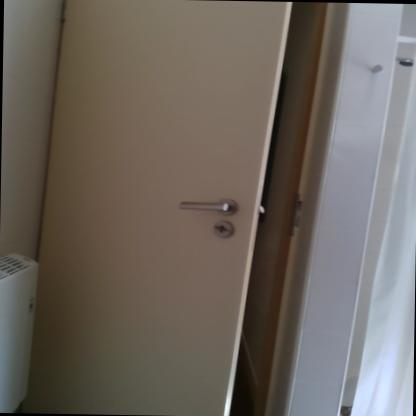closed: (20, 0, 355, 415)
